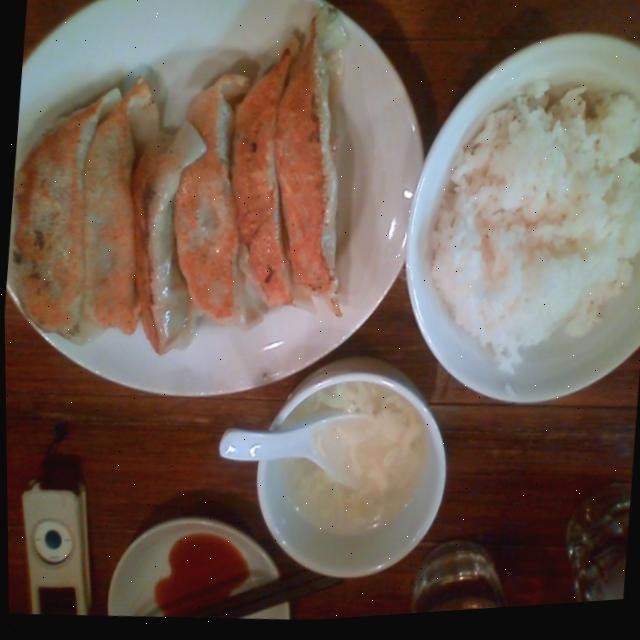带馅早点: (0, 0, 382, 378)
汤锅炖物: (261, 365, 437, 568)
米饭主食: (427, 69, 640, 394)
